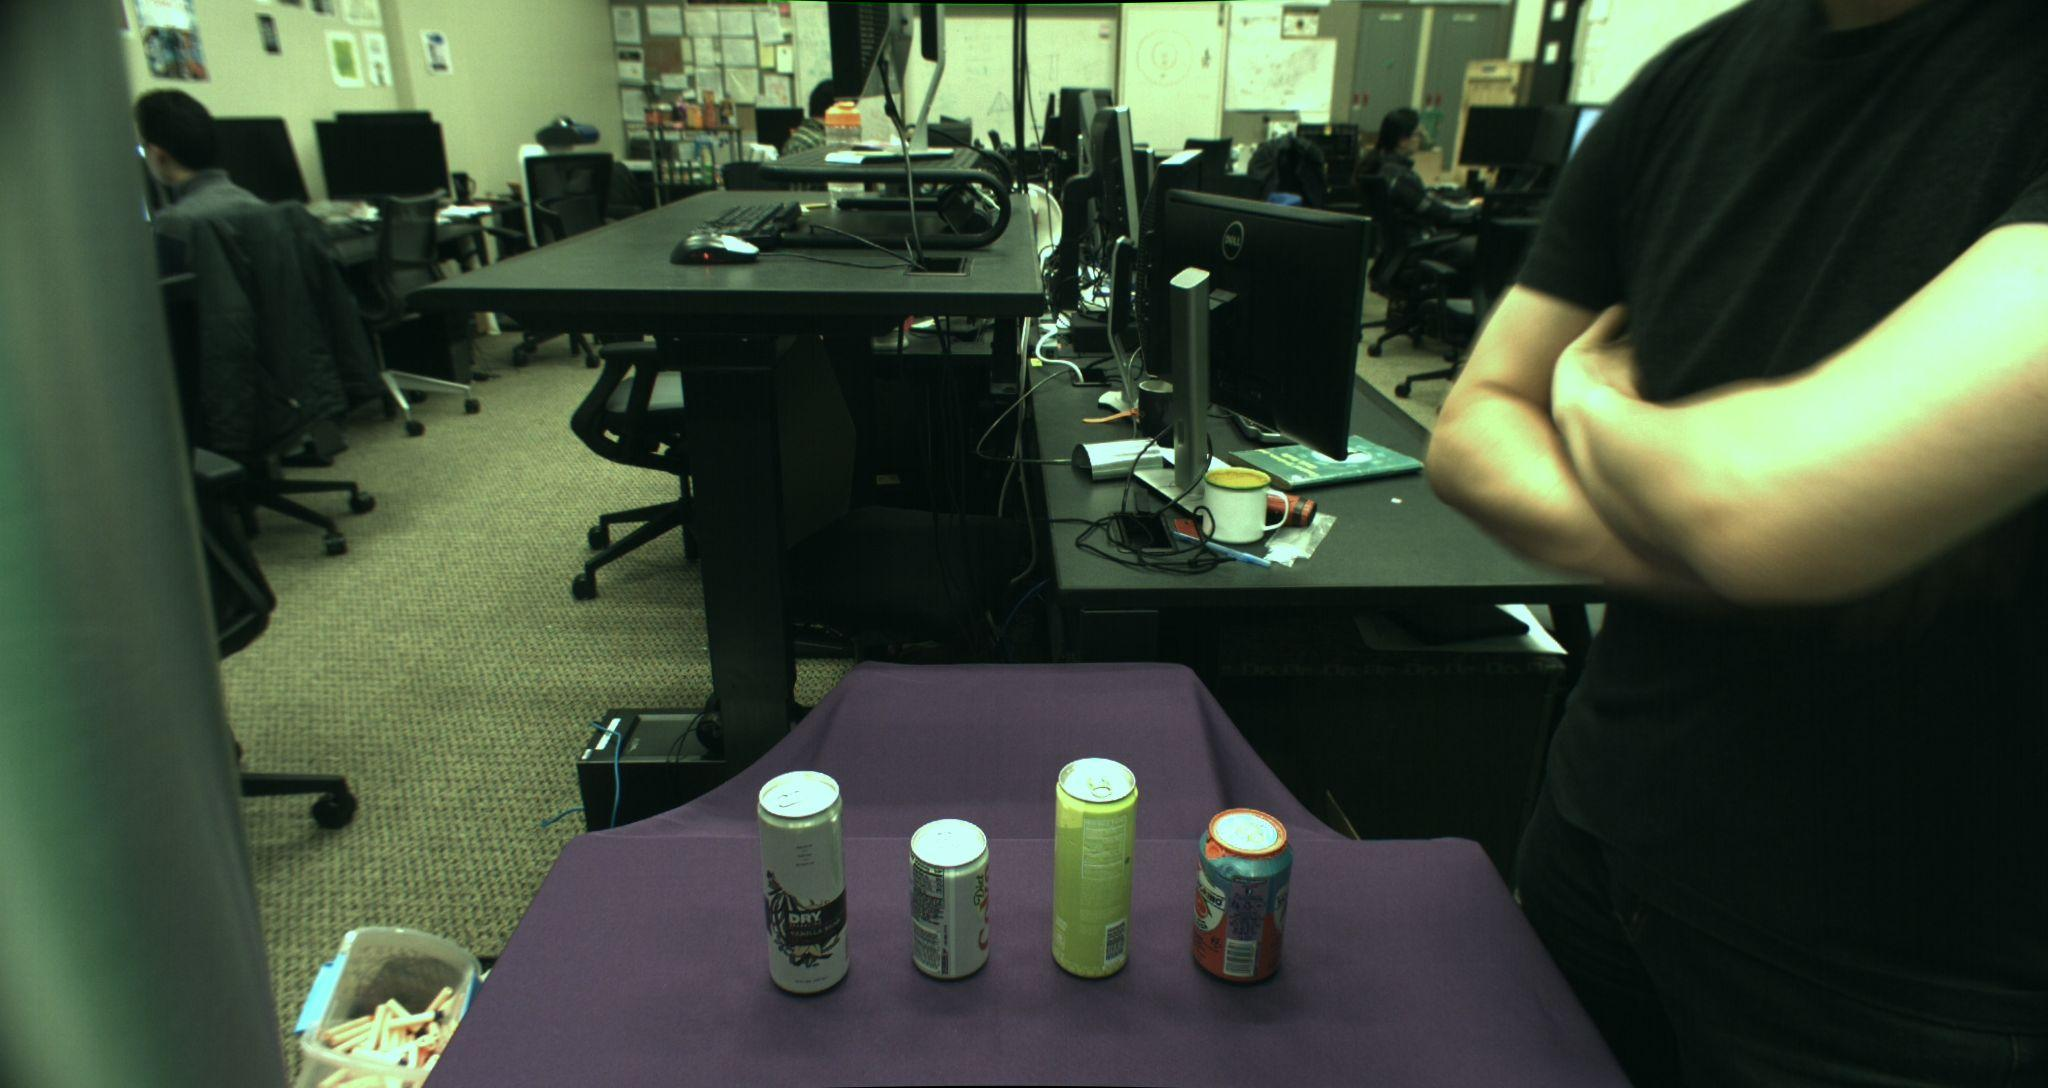can_diet_coke_small: (908, 817, 991, 980)
can_dry_sparkling_vanilla_bean: (756, 770, 851, 995)
can_izze_fusions_lemon_lime: (1050, 756, 1139, 978)
can_sanpellegrino_blood_orange: (1193, 808, 1291, 982)
